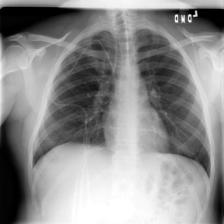normal: (27, 21, 214, 181)
